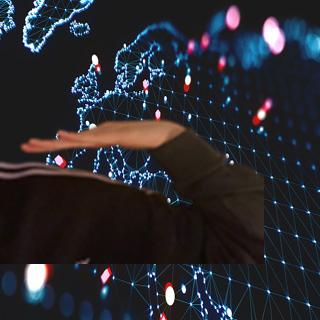Wait: (14, 112, 185, 159)
